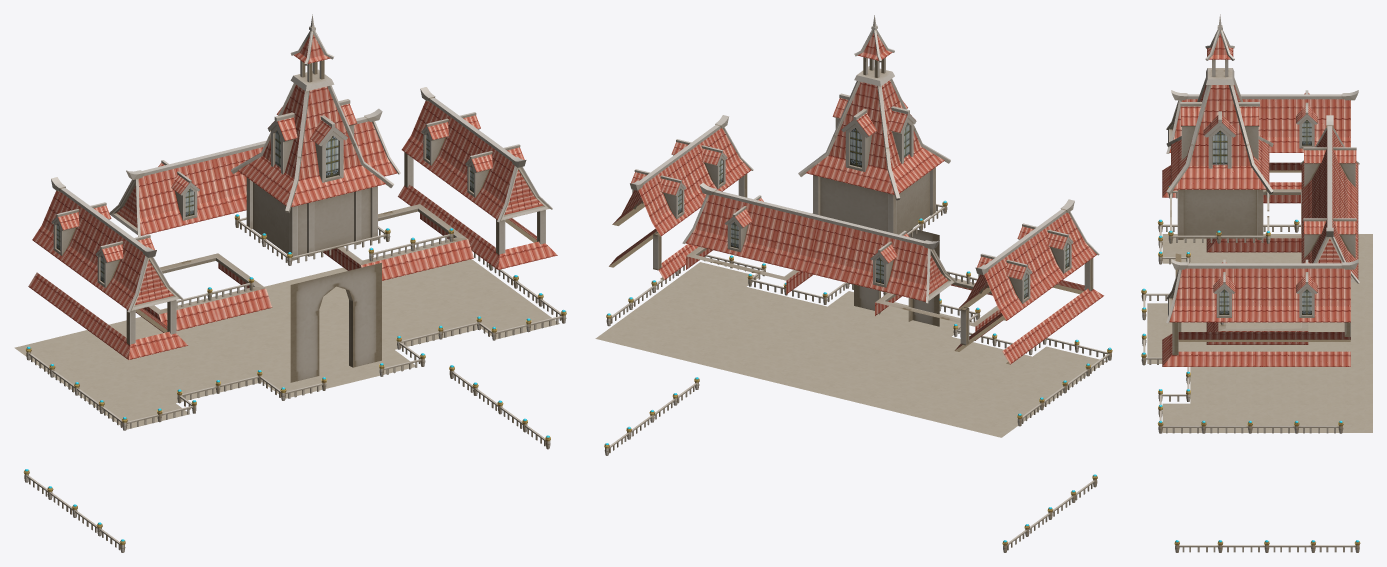
The model's file is zhucheng_wangcheng03.FBX.
3 renders of one model, left to right at view 1: azimuth 30°, elevation 25°; view 2: azimuth 150°, elevation 25°; view 3: azimuth 270°, elevation 25°, orthographic. The views are drawn at different scales.
Parts seen in each view (by area): view 1: zhucheng_wangcheng03; view 2: zhucheng_wangcheng03; view 3: zhucheng_wangcheng03.
Boxes of the visible parts, x1,y1,x2,y2 form: zhucheng_wangcheng03: (14,14,566,552); zhucheng_wangcheng03: (595,15,1112,552); zhucheng_wangcheng03: (1141,14,1372,552).
Size of the model in its own units: 3024 by 3059 by 1458.
